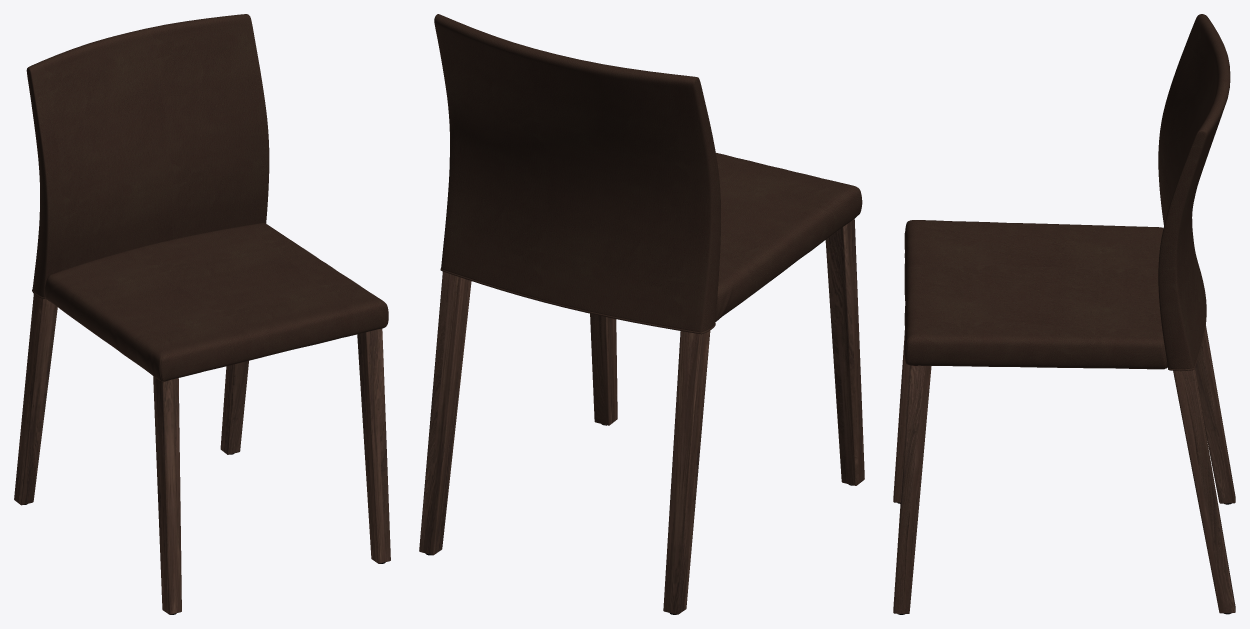
Rendered from willisau_vero_chair_obj.obj.
The picture shows the model from 3 angles, left to right: view 1: azimuth 30°, elevation 25°; view 2: azimuth 150°, elevation 25°; view 3: azimuth 270°, elevation 25°; orthographic projection. The views are drawn at different scales.
Parts seen in each view (by area): view 1: willisau_vero_chair; view 2: willisau_vero_chair; view 3: willisau_vero_chair.
Part boxes in pixels (left/top/right/bottom): willisau_vero_chair: left=14, top=14, right=390, bottom=614; willisau_vero_chair: left=419, top=14, right=864, bottom=614; willisau_vero_chair: left=893, top=14, right=1235, bottom=614.
Size of the model in its own units: 44.76 by 82.83 by 52.87.
Materials: 4 (3 with a texture image).
